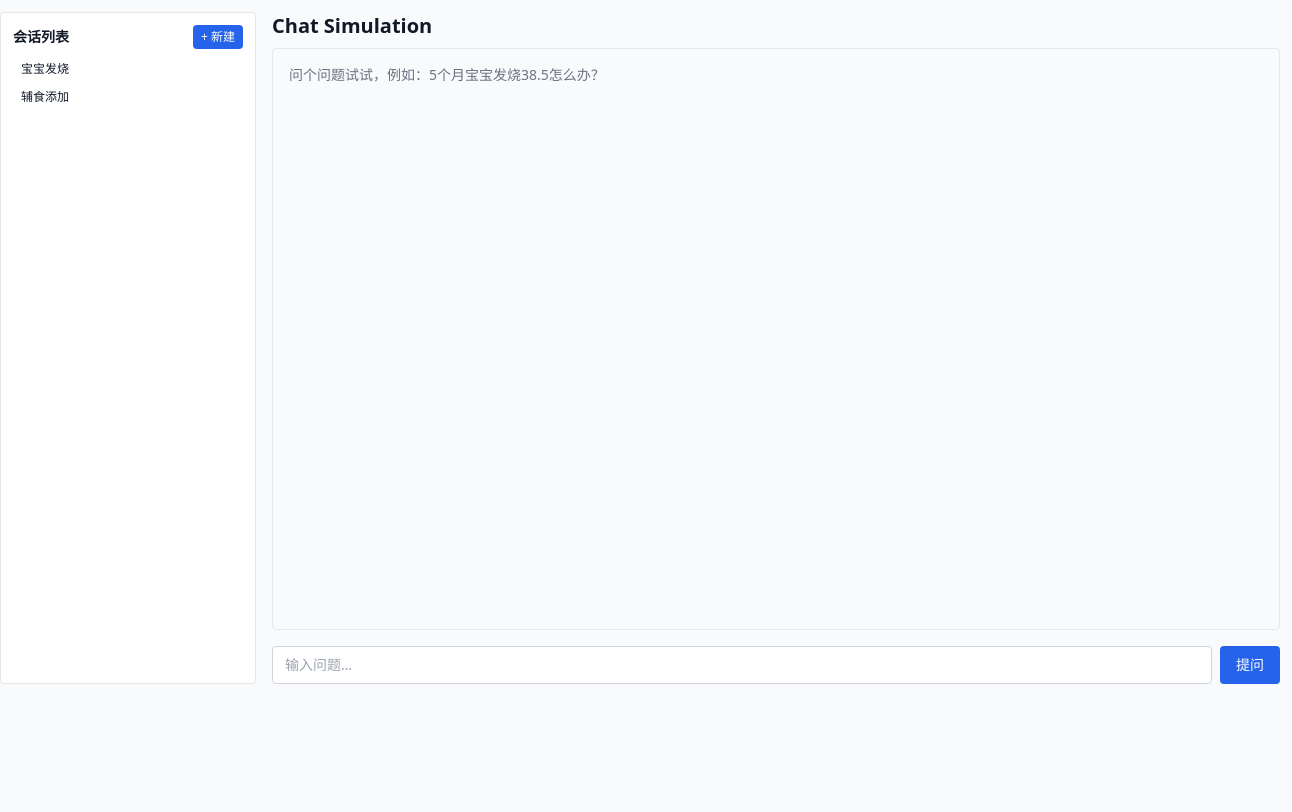
Test case: ChatSim 多 session UI › 提新问题 → 调 chat() + 收到 session_id 后显示 session: 01HNEW…
Expected: the button "宝宝发烧" is shown, [21, 61, 235, 77]
Type "5个月宝宝发烧怎么办" into the field with placeholder "输入问题…" at coordinates (742, 665), box [272, 646, 1212, 684]
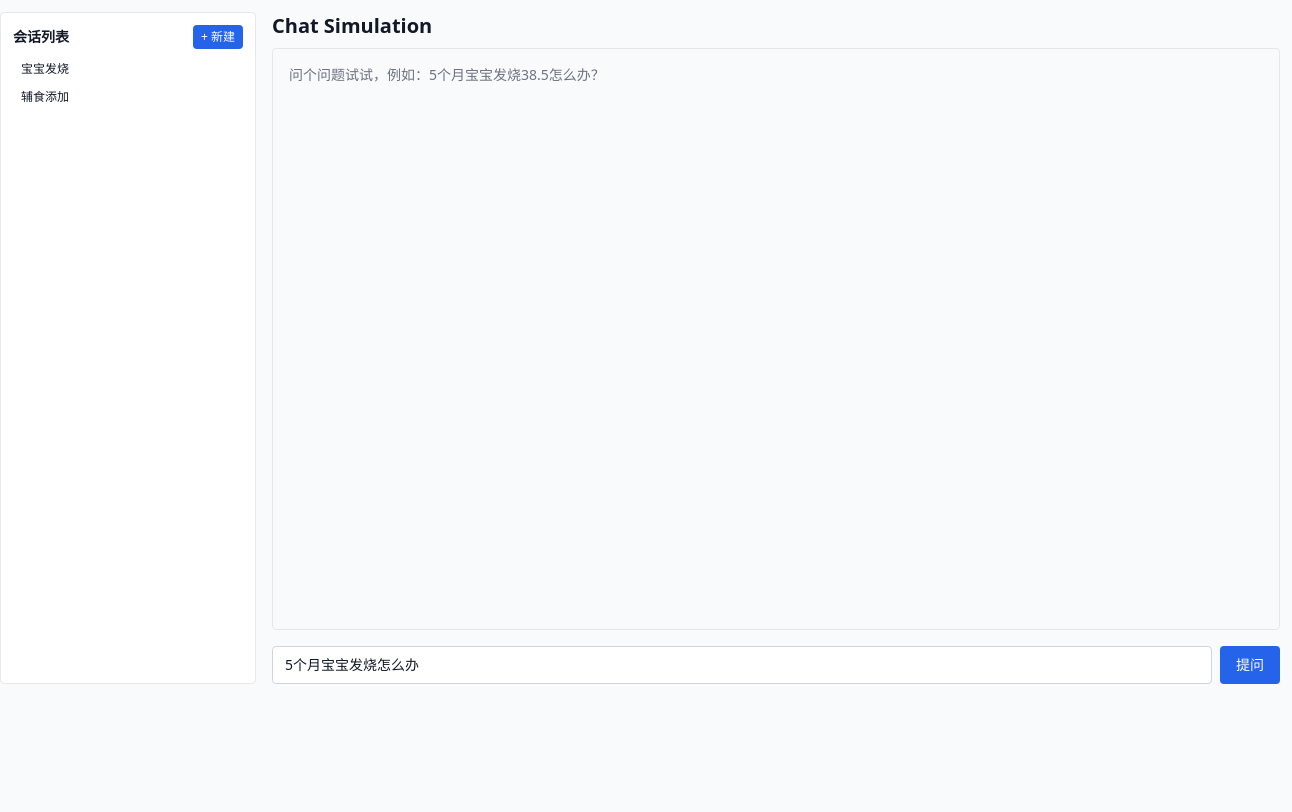
Click the button "提问" at coordinates (1250, 665), box [1220, 646, 1280, 684]
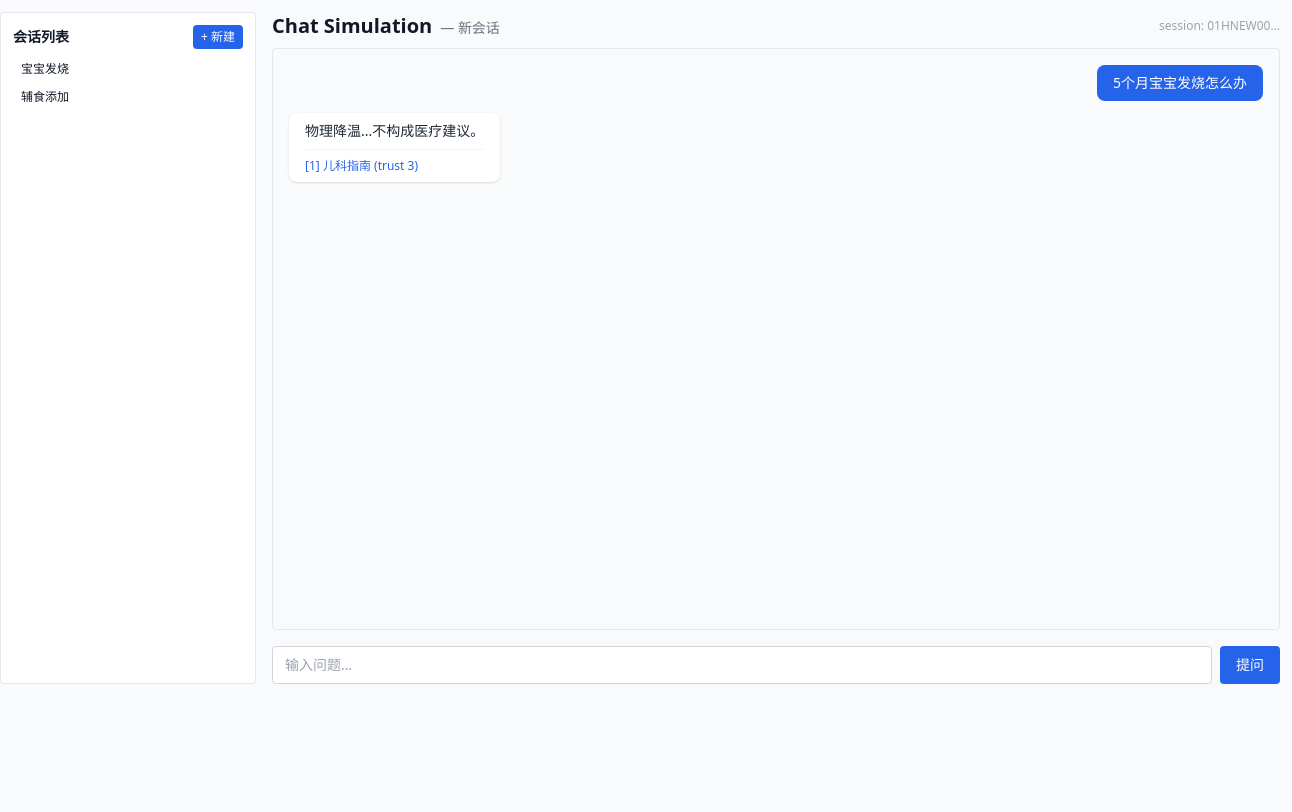
Expected: the text "session: 01HNEW00…" is shown, [1159, 18, 1280, 34]
